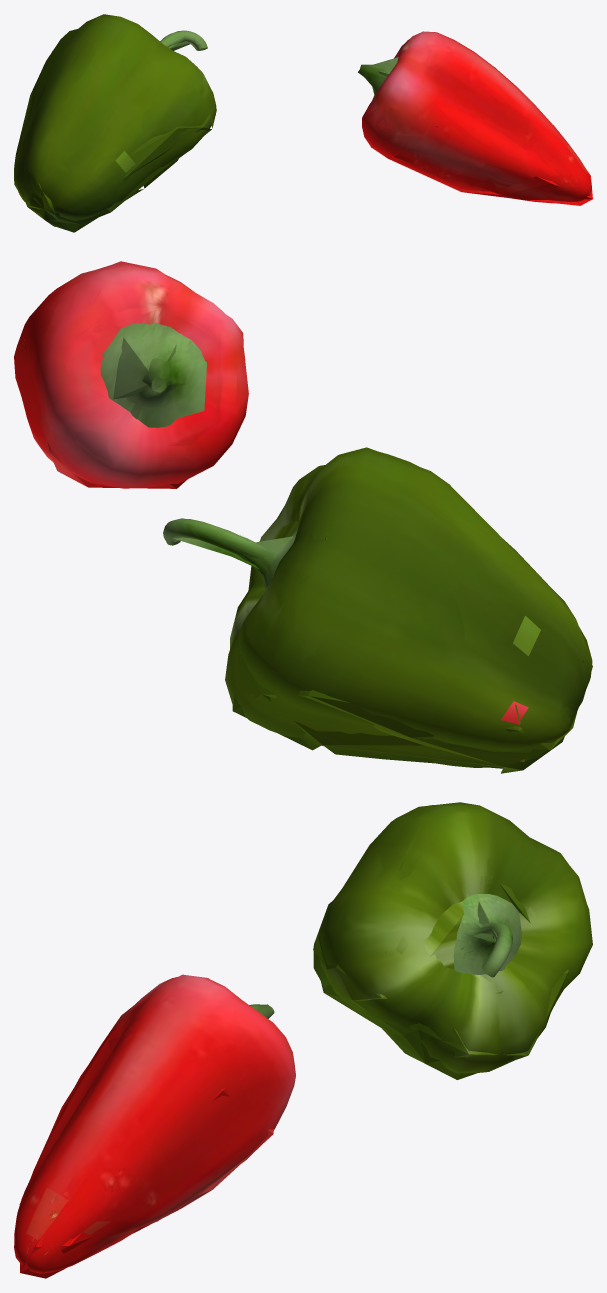
The model's file is imp-vegetables-2.glb.
3 views of the same model, one above another, from view 1: azimuth 30°, elevation 25°; view 2: azimuth 150°, elevation 25°; view 3: azimuth 270°, elevation 25° (orthographic). The views are drawn at different scales.
Parts seen in each view (by area): view 1: Kerbside_metres_ground_pivot (×3); view 2: Kerbside_metres_ground_pivot (×3); view 3: Kerbside_metres_ground_pivot (×3).
Part boxes in pixels (<box>): Kerbside_metres_ground_pivot (×3): <box>14,14,592,232</box>; Kerbside_metres_ground_pivot (×3): <box>14,261,592,773</box>; Kerbside_metres_ground_pivot (×3): <box>14,802,592,1278</box>.
Size of the model in its own units: 0.2 by 0.077 by 0.1534.
Materials: 33 (28 with a texture image).
